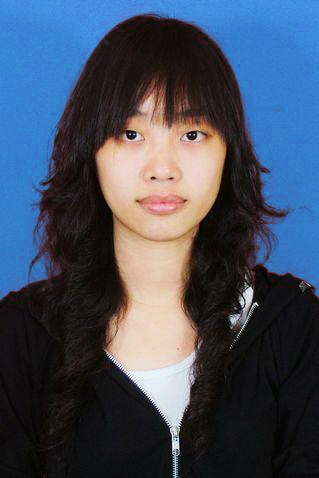unmask: (100, 97, 224, 242)
